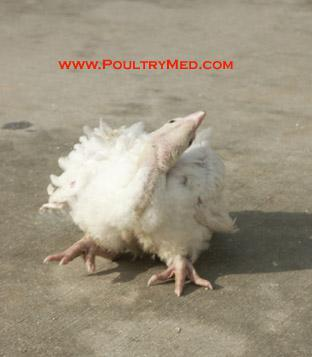AbNormal: (42, 109, 237, 297)
